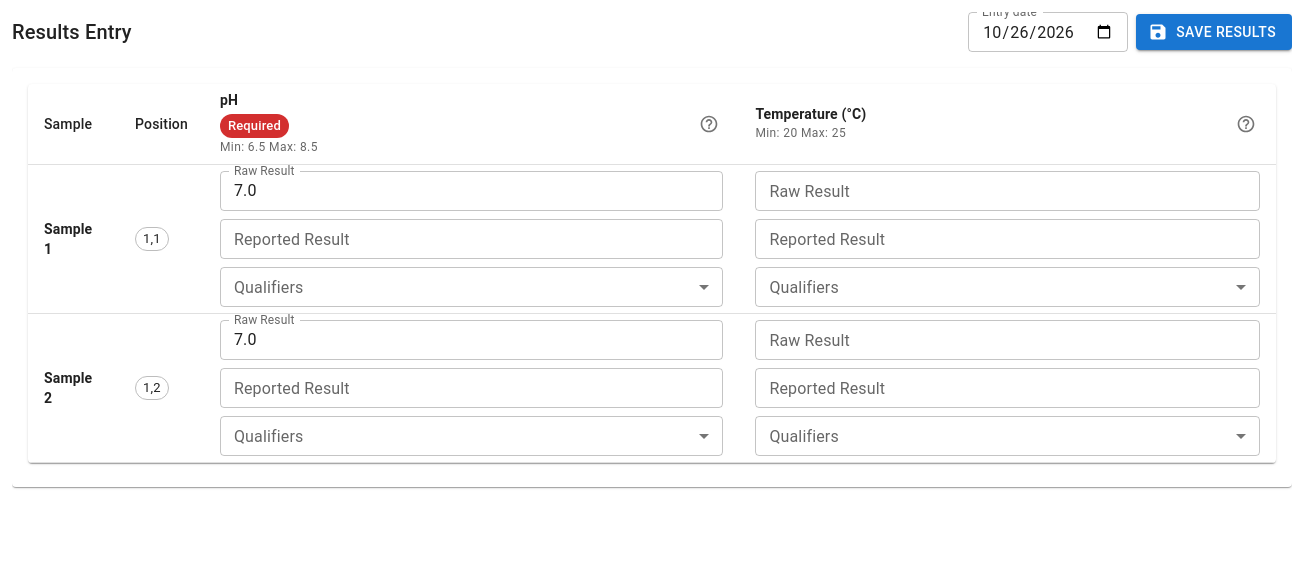
ResultsEntryTable › caps entry date at the browser today and shows the API sentence once
This screenshot has width=1304, height=570.
What coordinates should you click on to do the following:
click the button "Save Results"
I would click on:
 (1214, 32)
Its box is 1136,14 -> 1292,50.
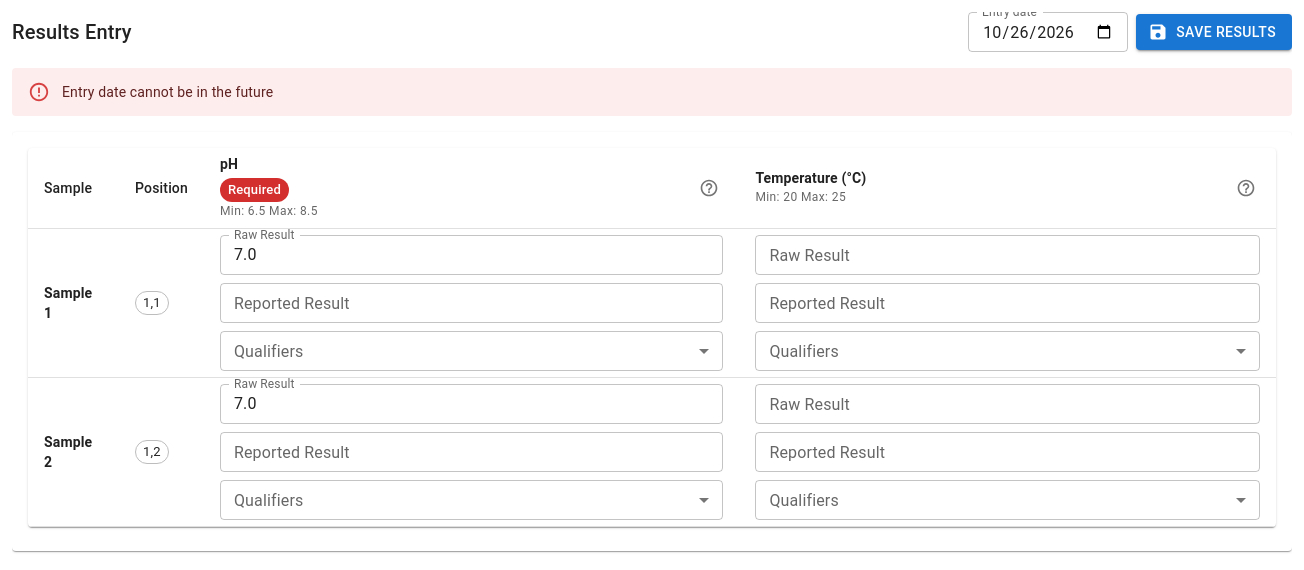
Now the text "Entry date cannot be in the future" is shown once, box 62,84 -> 273,100
